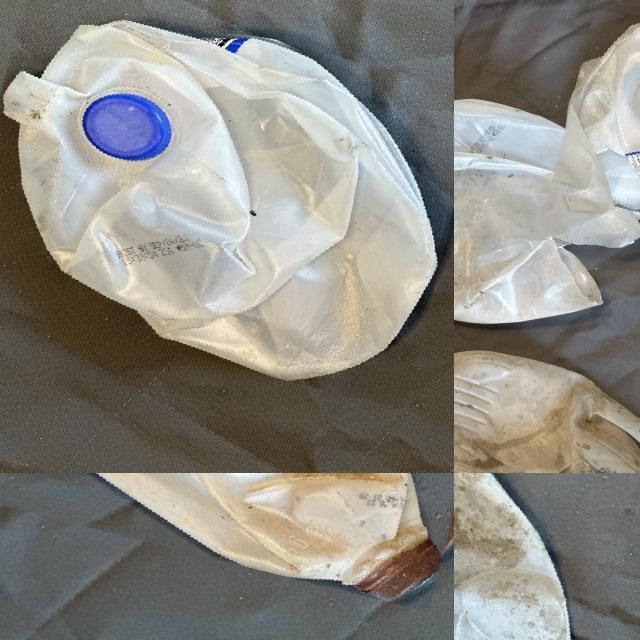milk-jug: (0, 5, 454, 383), (0, 473, 454, 584), (454, 79, 612, 320), (454, 473, 622, 640), (454, 351, 640, 473), (560, 0, 640, 234)
